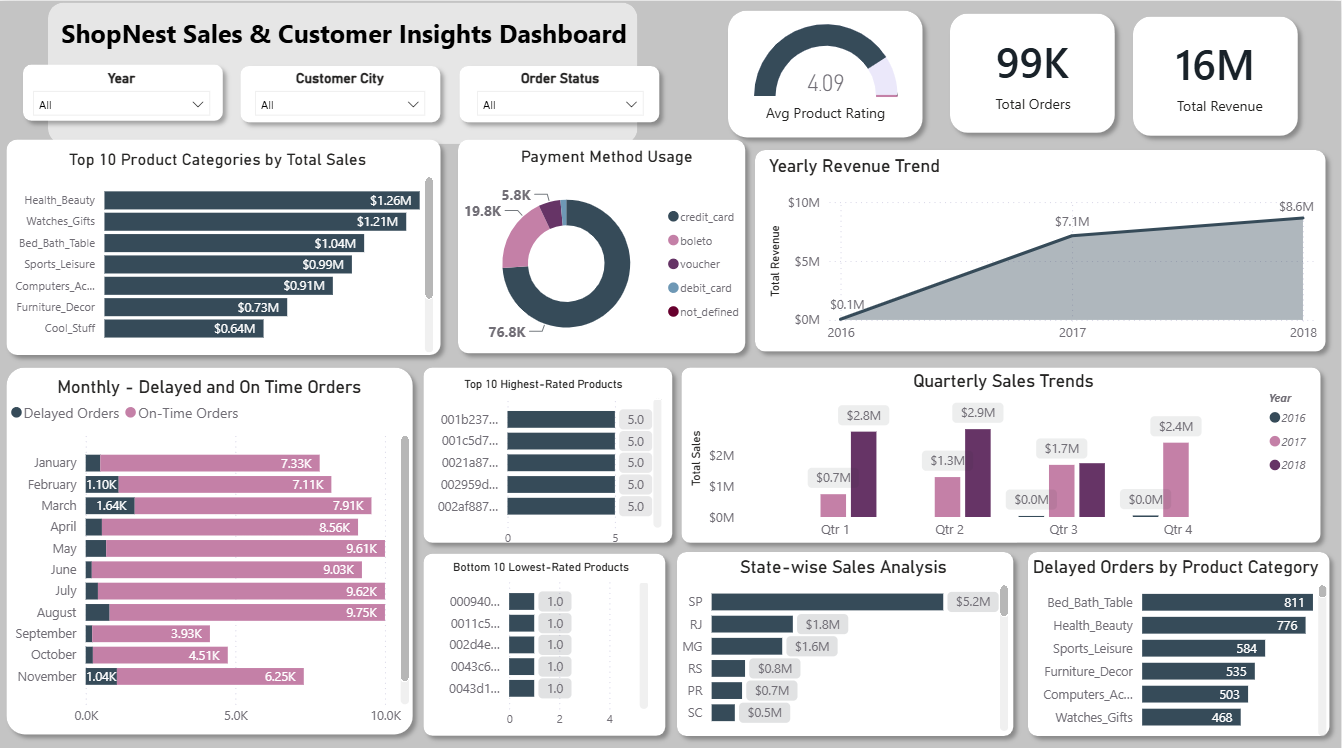

This screenshot's page, from the dashboard's own definition file:
{"tool":"powerbi","page":{"name":"Dashboard","canvas":[1280,720],"ordinal":0},"visuals":[{"type":"shape","box":[48.3,1.7,561.4,134.9],"z":0},{"type":"shape","box":[972.3,515,305.1,193.3],"z":0,"group":"g12"},{"type":"shape","box":[686.7,0,203.3,138.9],"z":1000,"group":"g7"},{"type":"shape","box":[431.7,53.3,208.3,71.7],"z":1000},{"type":"shape","box":[223.3,53.3,208.3,71.7],"z":2000},{"type":"shape","box":[1073.3,5,175,131.7],"z":3000,"group":"g8"},{"type":"shape","box":[15,51.7,208.3,71.7],"z":3000},{"type":"shape","box":[898.3,3.3,175,131.7],"z":4000,"group":"g9"},{"type":"slicer","title":"Year","fields":{"Values":["Fact_Orders.order_purchase_timestamp.Variation.Date Hierarchy.Year"]},"box":[25,65,188.3,78.3],"z":4000},{"type":"textbox","box":[50,8.3,561.4,65],"z":5000},{"type":"slicer","title":"Customer City","fields":{"Values":["Dim_Customers.customer_city"]},"box":[236.4,65.5,181.8,78.2],"z":6000},{"type":"slicer","title":"Order Status","fields":{"Values":["Fact_Orders.order_status"]},"box":[446.7,65,178.3,78.3],"z":7000},{"type":"group","id":"g1","title":"Group 1","box":[0,123.3,431.5,223.2],"z":8000},{"type":"group","id":"g2","title":"Group 2","box":[430,123.3,291.7,225],"z":9000},{"type":"clusteredBarChart","title":"Delayed Orders by Product Category","fields":{"Category":["Dim_Product_category_translation.product_category_name_english"],"Y":["Measure table.Delayed Orders"]},"box":[974,528.3,296.7,176.7],"z":9000,"group":"g12"},{"type":"cardVisual","fields":{"Data":["Measure table.Total Revenue"]},"box":[1090.8,16.2,140,83.3],"z":10000,"group":"g11"},{"type":"group","id":"g3","title":"Group 3","box":[638.3,515,338.3,193.3],"z":10000},{"type":"gauge","title":"Average Product Rating","fields":{"Y":["Measure table.Average Product Rating"]},"box":[715.6,14.4,146.7,83.3],"z":11000,"group":"g7"},{"type":"group","id":"g4","title":"Group 5","box":[0,339.8,405,367.5],"z":11000},{"type":"cardVisual","fields":{"Data":["CountNonNull(Fact_Orders.order_id)"]},"box":[919.5,24.5,132.5,78.5],"z":12000,"group":"g10"},{"type":"group","id":"g5","title":"Group 6","box":[643.3,340,626.7,185],"z":12000},{"type":"textbox","box":[726.7,91.7,128,32],"z":13000,"group":"g7"},{"type":"group","id":"g6","title":"Group 7","box":[713.1,133.4,561.4,209.9],"z":13000},{"type":"group","id":"g7","title":"Group 10","box":[686.7,0,201.7,138.3],"z":14000},{"type":"textbox","box":[921.3,83.4,130.7,31.1],"z":14000,"group":"g10"},{"type":"group","id":"g8","title":"Group 11","box":[1073.3,5,175,131.7],"z":15000},{"type":"textbox","box":[1110.6,83.1,109.3,32.1],"z":15000,"group":"g11"},{"type":"group","id":"g9","title":"Group 12","box":[898.3,3.3,175,131.7],"z":16000},{"type":"group","id":"g10","title":"Group 8","box":[919.5,24.5,132.5,90],"z":17000,"group":"g9"},{"type":"shape","box":[0,123.3,431.5,223.2],"z":17000,"group":"g1"},{"type":"shape","box":[396.5,339.9,254.9,184.9],"z":17000},{"type":"shape","box":[643.3,340,626.7,185],"z":17000,"group":"g5"},{"type":"group","id":"g11","title":"Group 9","box":[1090.8,16.2,140,100],"z":18000,"group":"g8"},{"type":"shape","box":[430,123.3,291.7,221.7],"z":18000,"group":"g2"},{"type":"shape","box":[0,339.8,405,367.5],"z":18000,"group":"g4"},{"type":"group","id":"g12","title":"Group 13","box":[972.3,515,305.1,193.3],"z":18000},{"type":"clusteredColumnChart","title":"Quarterly Sales Trends","fields":{"Category":["Fact_Orders.order_purchase_timestamp.Variation.Date Hierarchy.Quarter"],"Y":["Measure table.Total Sales"],"Series":["Fact_Orders.order_purchase_timestamp.Variation.Date Hierarchy.Year"]},"box":[653.3,351.7,608.3,170],"z":19000,"group":"g5"},{"type":"clusteredBarChart","title":"Top 10 Highest-Rated Products","fields":{"Category":["Dim_Products.product_id"],"Y":["Measure table.Average Product Rating"]},"box":[403.3,358.3,235,170],"z":19000},{"type":"shape","box":[638.3,515,338.3,193.3],"z":19000,"group":"g3"},{"type":"shape","box":[396.7,516.7,248.3,191.7],"z":20000},{"type":"shape","box":[713.1,133.4,561.4,209.9],"z":21000,"group":"g6"},{"type":"clusteredBarChart","title":"Bottom 10 Lowest-Rated Products","fields":{"Category":["Dim_Products.product_id"],"Y":["Measure table.Average Product Rating"]},"box":[411.7,533.3,213.3,168.3],"z":21000},{"type":"areaChart","title":"Yearly Revenue Trend","fields":{"Category":["Fact_Orders.order_purchase_timestamp.Variation.Date Hierarchy.Year"],"Y":["Measure table.Total Revenue"]},"box":[729.8,148.4,531.4,186.6],"z":22000,"group":"g6"},{"type":"barChart","title":"Top 10 Product Categories by Total Sales","fields":{"Category":["Dim_Product_category_translation.product_category_name_english"],"Y":["Measure table.Total Sales"]},"box":[0,141.6,420.2,198.2],"z":23000,"group":"g1"},{"type":"barChart","title":"State-wise Sales Analysis","fields":{"Category":["Dim_Customers.customer_state"],"Y":["Measure table.Total Sales"]},"box":[643.8,528.3,323.6,171.6],"z":24000,"group":"g3"},{"type":"barChart","title":"Monthly - Delayed and On Time Orders","fields":{"Category":["Fact_Orders.order_purchase_timestamp.Variation.Date Hierarchy.Month"],"Y":["Measure table.Delayed Orders","Measure table.On-Time Orders"]},"box":[6.7,356.9,390,341.7],"z":24002,"group":"g4"},{"type":"donutChart","title":"   Payment Method Usage","fields":{"Category":["Fact_Order_payment.payment_type"],"Y":["CountNonNull(Fact_Order_payment.order_id)"]},"box":[440,138.3,281.7,210],"z":26000,"group":"g2"}]}

Visuals, with their boxes in screenshot pixels (x1, y1, x2, y2), scaled from the page's 1280x720 canvas onto the 1342x748 screenshot:
shape: x1=51 y1=2 x2=639 y2=142
shape: x1=1019 y1=535 x2=1339 y2=736
shape: x1=720 y1=0 x2=933 y2=144
shape: x1=453 y1=55 x2=671 y2=130
shape: x1=234 y1=55 x2=453 y2=130
shape: x1=1125 y1=5 x2=1309 y2=142
shape: x1=16 y1=54 x2=234 y2=128
shape: x1=942 y1=3 x2=1125 y2=140
"Year" slicer: x1=26 y1=68 x2=224 y2=149
textbox: x1=52 y1=9 x2=641 y2=76
"Customer City" slicer: x1=248 y1=68 x2=438 y2=149
"Order Status" slicer: x1=468 y1=68 x2=655 y2=149
"Group 1" group: x1=0 y1=128 x2=452 y2=360
"Group 2" group: x1=451 y1=128 x2=757 y2=362
"Delayed Orders by Product Category" clusteredBarChart: x1=1021 y1=549 x2=1332 y2=732
cardVisual - Measure table.Total Revenue: x1=1144 y1=17 x2=1290 y2=103
"Group 3" group: x1=669 y1=535 x2=1024 y2=736
"Average Product Rating" gauge: x1=750 y1=15 x2=904 y2=101
"Group 5" group: x1=0 y1=353 x2=425 y2=735
cardVisual - CountNonNull(Fact_Orders.order_id): x1=964 y1=25 x2=1103 y2=107
"Group 6" group: x1=674 y1=353 x2=1332 y2=545
textbox: x1=762 y1=95 x2=896 y2=129
"Group 7" group: x1=748 y1=139 x2=1336 y2=357
"Group 10" group: x1=720 y1=0 x2=931 y2=144
textbox: x1=966 y1=87 x2=1103 y2=119
"Group 11" group: x1=1125 y1=5 x2=1309 y2=142
textbox: x1=1164 y1=86 x2=1279 y2=120
"Group 12" group: x1=942 y1=3 x2=1125 y2=140
"Group 8" group: x1=964 y1=25 x2=1103 y2=119
shape: x1=0 y1=128 x2=452 y2=360
shape: x1=416 y1=353 x2=683 y2=545
shape: x1=674 y1=353 x2=1332 y2=545
"Group 9" group: x1=1144 y1=17 x2=1290 y2=121
shape: x1=451 y1=128 x2=757 y2=358
shape: x1=0 y1=353 x2=425 y2=735
"Group 13" group: x1=1019 y1=535 x2=1339 y2=736
"Quarterly Sales Trends" clusteredColumnChart: x1=685 y1=365 x2=1323 y2=542
"Top 10 Highest-Rated Products" clusteredBarChart: x1=423 y1=372 x2=669 y2=549
shape: x1=669 y1=535 x2=1024 y2=736
shape: x1=416 y1=537 x2=676 y2=736
shape: x1=748 y1=139 x2=1336 y2=357
"Bottom 10 Lowest-Rated Products" clusteredBarChart: x1=432 y1=554 x2=655 y2=729
"Yearly Revenue Trend" areaChart: x1=765 y1=154 x2=1322 y2=348
"Top 10 Product Categories by Total Sales" barChart: x1=0 y1=147 x2=441 y2=353
"State-wise Sales Analysis" barChart: x1=675 y1=549 x2=1014 y2=727
"Monthly - Delayed and On Time Orders" barChart: x1=7 y1=371 x2=416 y2=726
"   Payment Method Usage" donutChart: x1=461 y1=144 x2=757 y2=362
